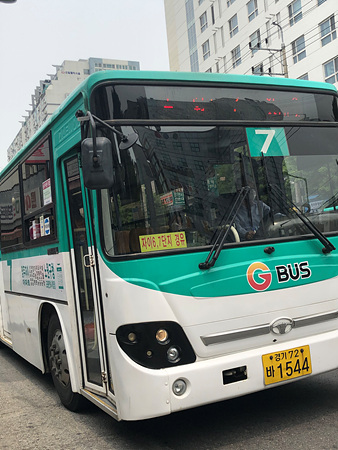bnum: (249, 125, 283, 156)
